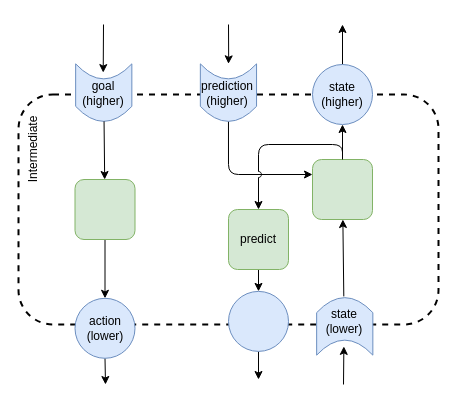
The diagram is 456 pixels wide and 410 high, and some of its shapes have lost their labels. Each missing label, with the box of its shape:
interpret: (312, 158, 372, 220)
policy: (74, 178, 135, 240)
prediction (lower): (228, 290, 288, 351)
